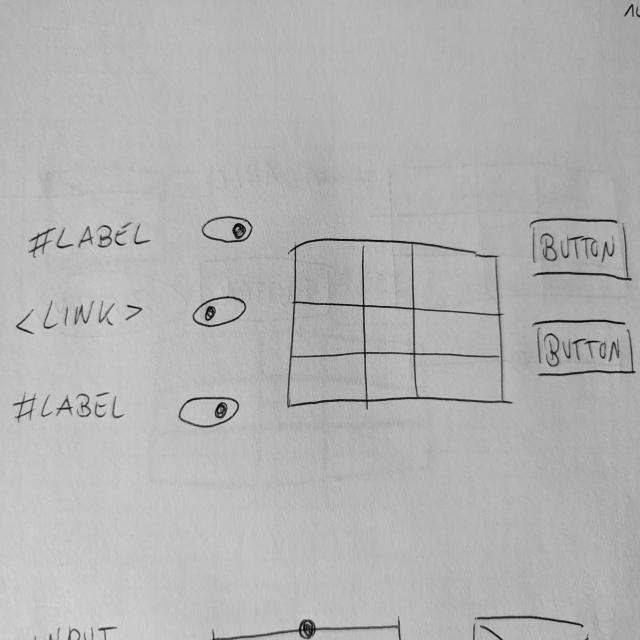button: (530, 215, 635, 284), (533, 318, 640, 379)
label: (30, 218, 159, 262), (13, 387, 131, 432)
link: (14, 297, 145, 341)
table: (282, 236, 514, 412)
toggle: (176, 393, 243, 432), (192, 293, 251, 332), (200, 216, 256, 246)
